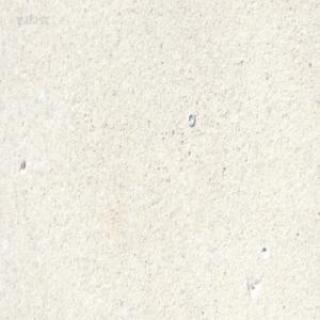Washertrack_idkeyframe: (186, 110, 194, 126)
